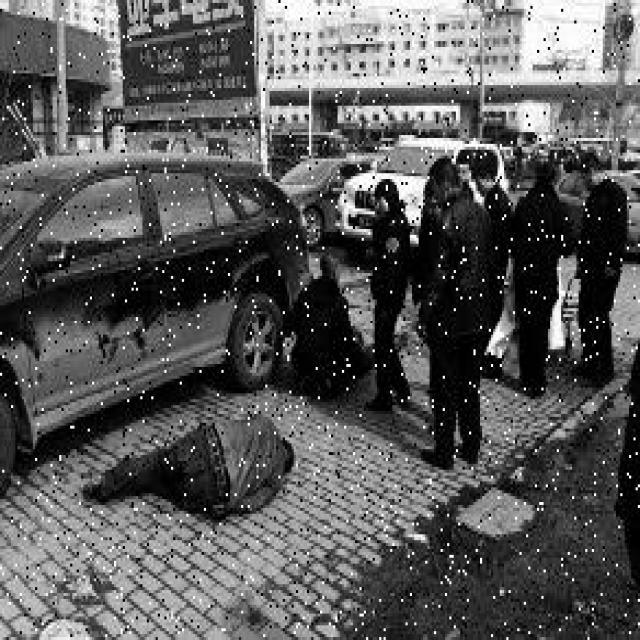fall: (88, 408, 294, 514)
